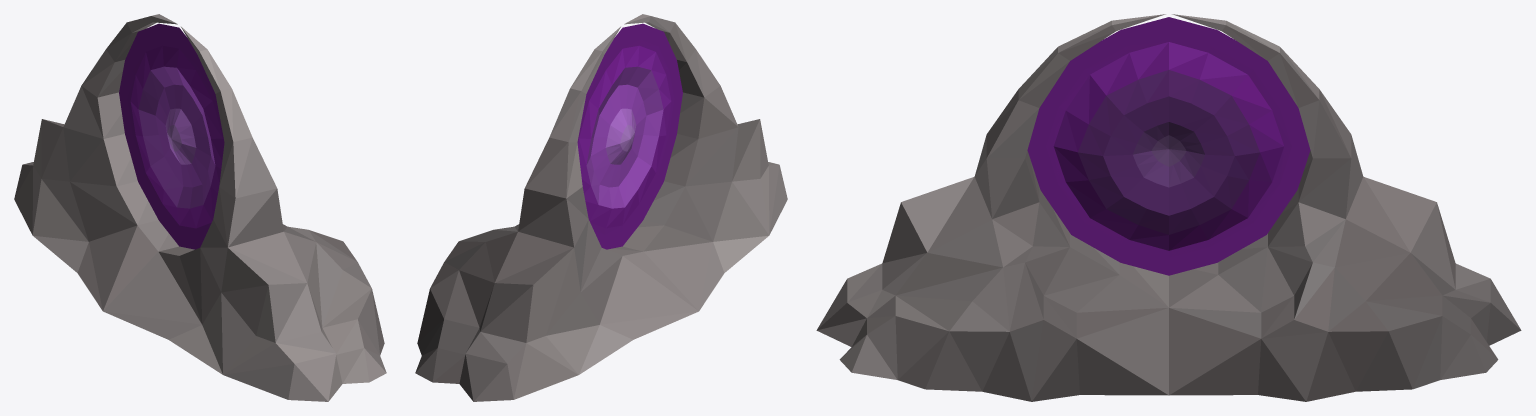
File: potal.fbx
3 renders of one model, left to right at view 1: azimuth 30°, elevation 25°; view 2: azimuth 150°, elevation 25°; view 3: azimuth 270°, elevation 25°, orthographic. The views are drawn at different scales.
Parts seen in each view (by area): view 1: Object Portal 2024-03-15_12-07-10; view 2: Object Portal 2024-03-15_12-07-10; view 3: Object Portal 2024-03-15_12-07-10.
Part boxes in pixels (left/top/right/bottom): Object Portal 2024-03-15_12-07-10: left=14, top=14, right=386, bottom=401; Object Portal 2024-03-15_12-07-10: left=415, top=14, right=787, bottom=401; Object Portal 2024-03-15_12-07-10: left=816, top=14, right=1521, bottom=401.
Size of the model in its own units: 2765 by 3532 by 7130.
